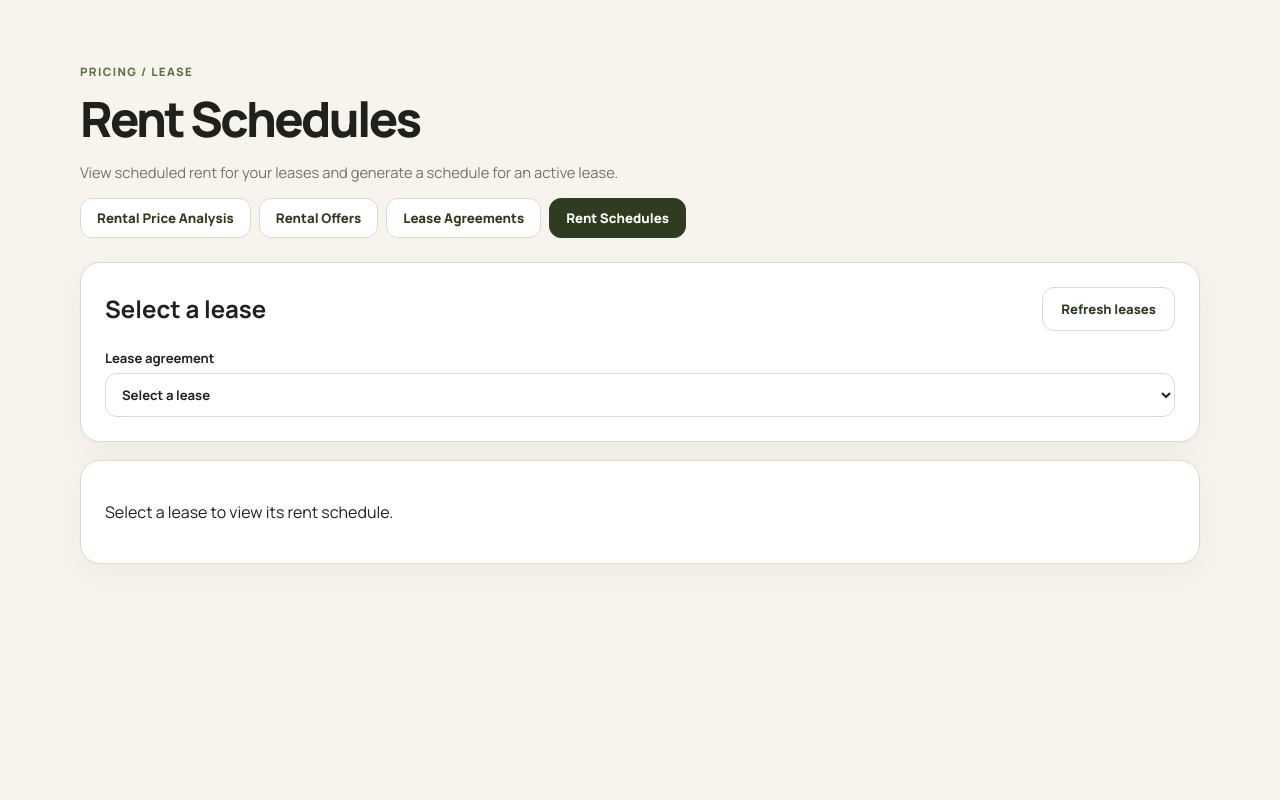
Scenario: landlord rent schedules › shows a safe schedule API error without server detail
Select "44444444-4444-4444-4444-444444444444 · Tenant 55555555-5555-5555-5555-5555555555" in the dropdown labelled "Lease agreement" at point(640, 395), box [105,373,1175,417]
(page scrolled)
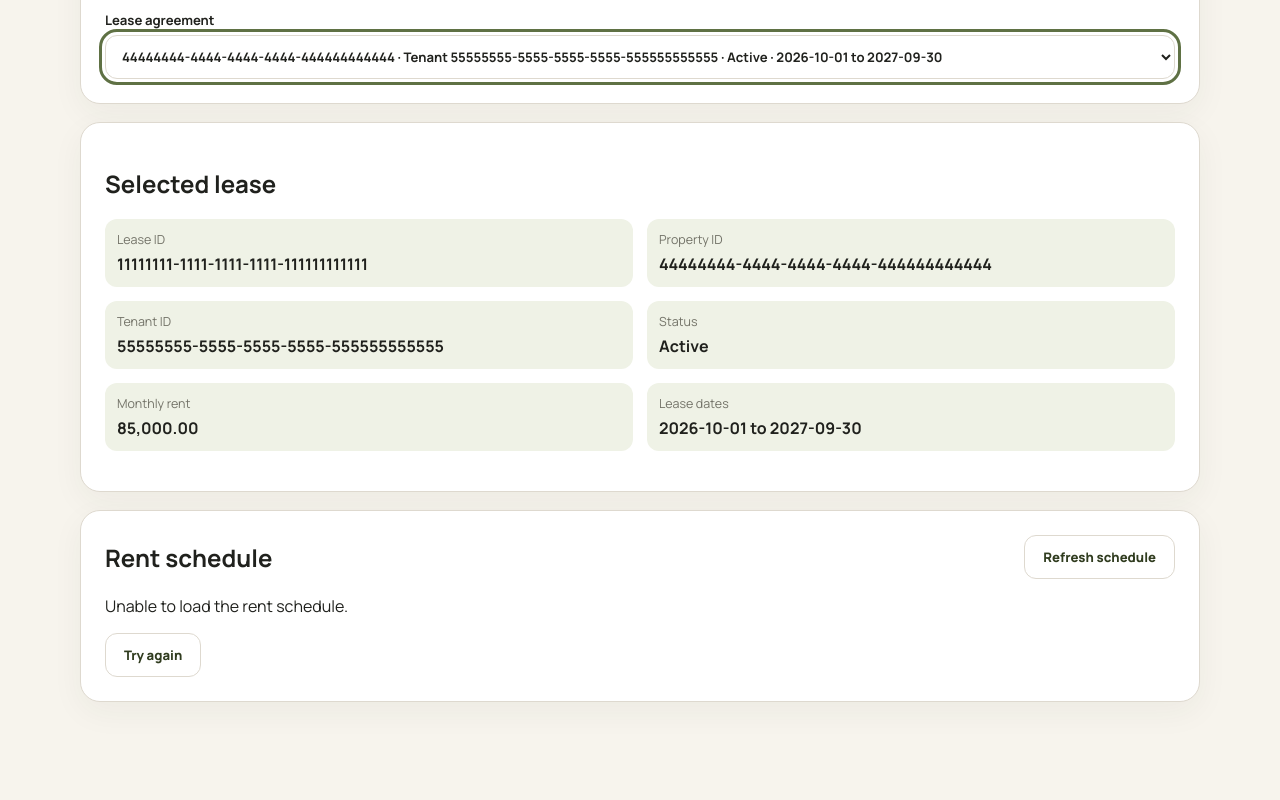
Expected: the message shows "Unable to load the rent schedule.", [105,596,348,618]
